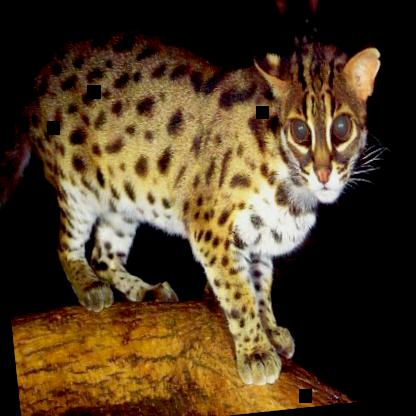cat: (0, 4, 414, 414)
